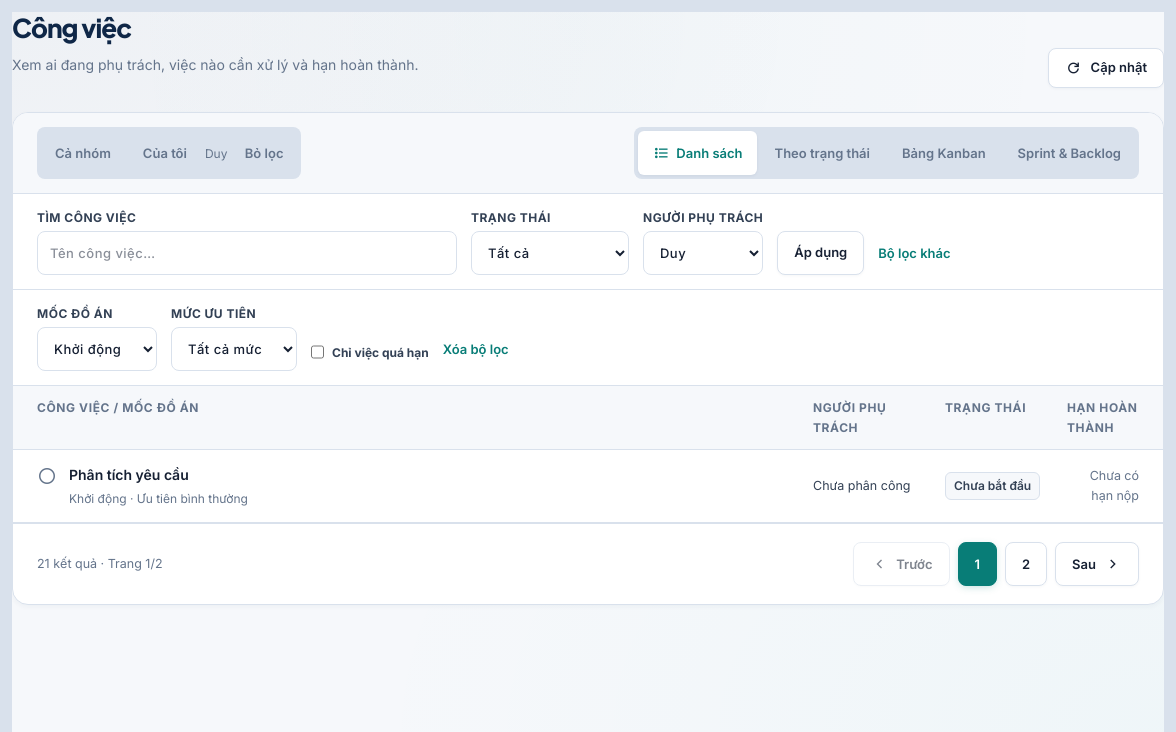
TaskBoardPage › preserves member and milestone filters through actual server pagination
Expected: the text "Phân tích yêu cầu" is shown, [69,466,189,483]
Click the button "Sau".
click(1097, 564)  # box [1055,542,1139,586]
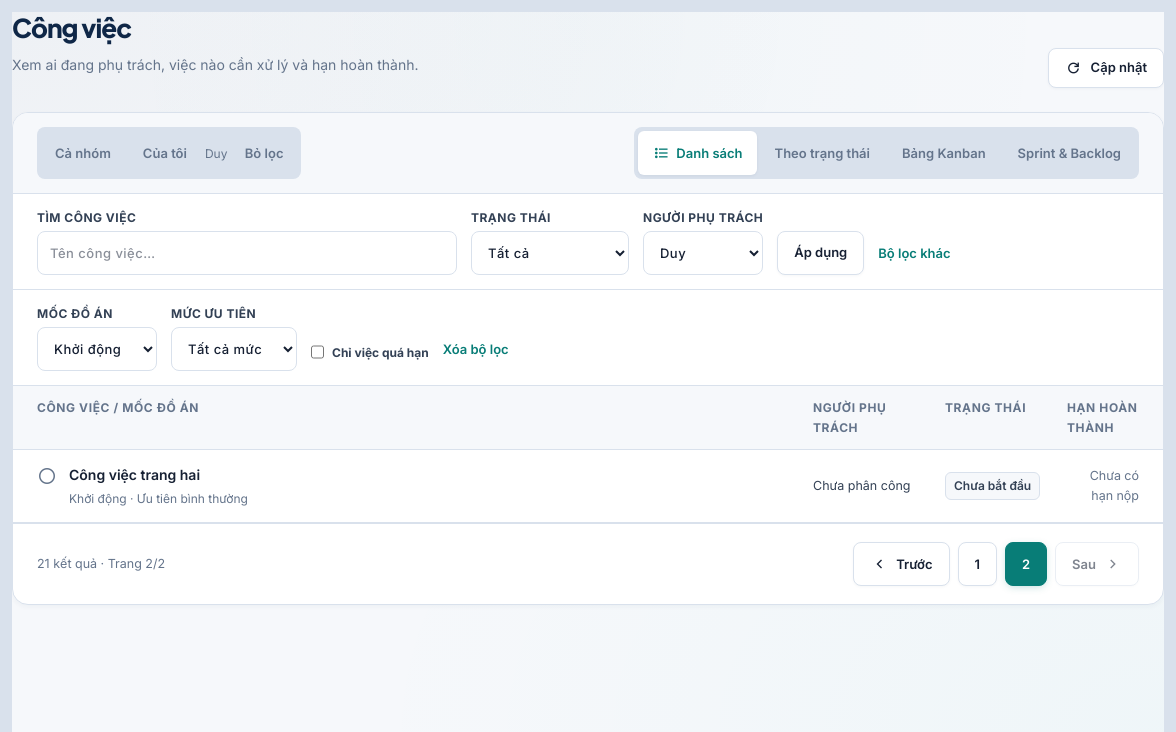
Expected: the text "Công việc trang hai" is shown, [69,466,200,483]
Expected: the link "Phân tích yêu cầu" is gone
